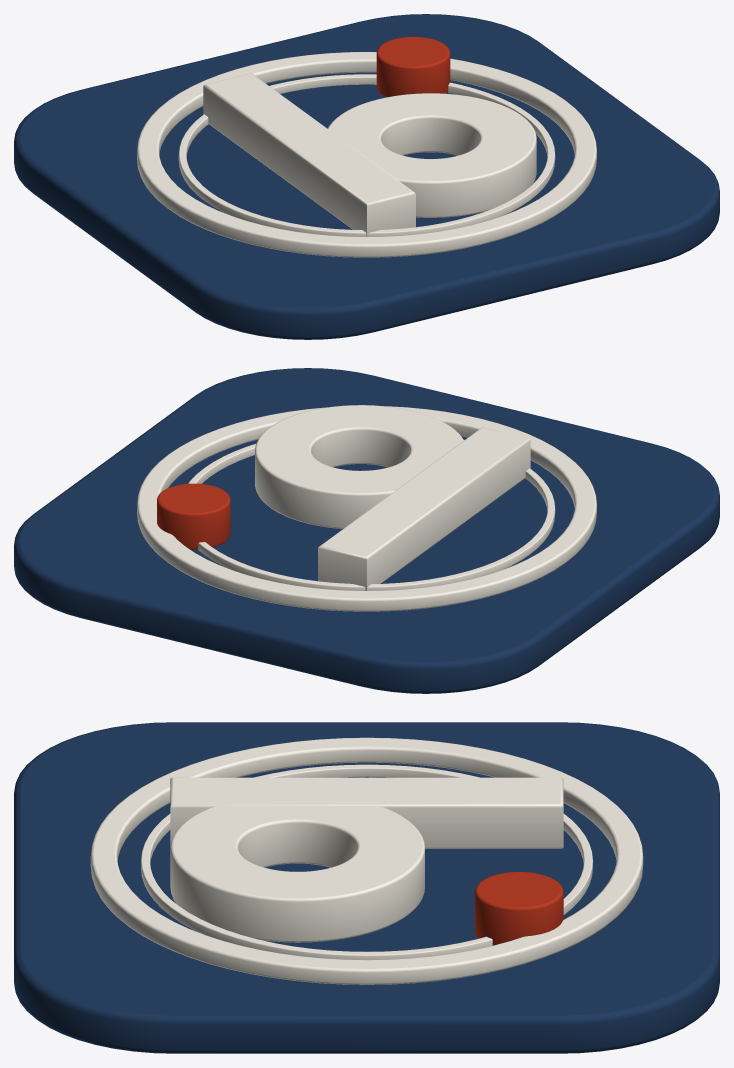
File: d2-mark.glb
3 renders of one model, top to bottom at view 1: azimuth 30°, elevation 25°; view 2: azimuth 150°, elevation 25°; view 3: azimuth 270°, elevation 25°, orthographic. The views are drawn at different scales.
Visible parts, largest first — view 1: plate, g, g.003, g.002, g.001, g.004; view 2: plate, g, g.003, g.002, g.001, g.004; view 3: plate, g, g.003, g.002, g.001, g.004.
Boxes of the visible parts, <box> form: plate: <box>14,14,719,339</box>; g: <box>137,52,596,257</box>; g.003: <box>327,93,536,217</box>; g.002: <box>203,73,415,236</box>; g.001: <box>178,74,555,236</box>; g.004: <box>376,36,450,97</box>; plate: <box>14,368,719,693</box>; g: <box>137,406,596,611</box>; g.003: <box>255,405,463,528</box>; g.002: <box>318,427,530,590</box>; g.001: <box>188,440,555,590</box>; g.004: <box>157,483,230,549</box>; plate: <box>14,722,719,1053</box>; g: <box>90,737,643,984</box>; g.003: <box>170,805,424,942</box>; g.002: <box>170,777,563,848</box>; g.001: <box>141,764,592,959</box>; g.004: <box>475,871,563,945</box>.
Size of the model in its own units: 2.04 by 0.262 by 2.04.
